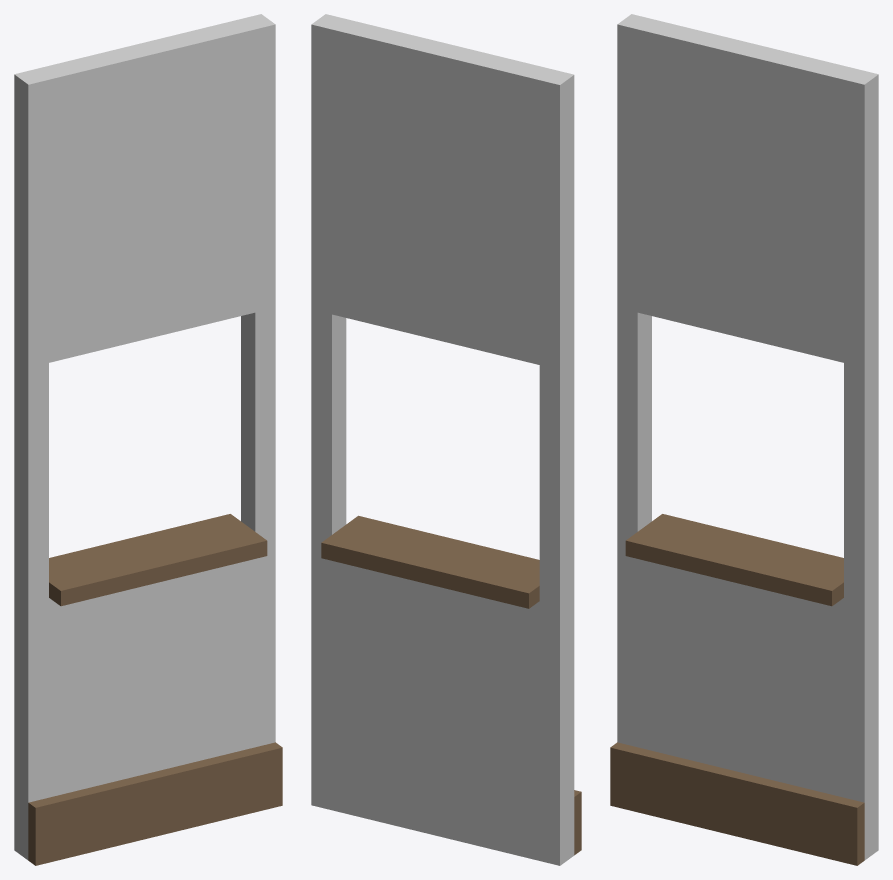
The model's file is Mesh_WallBaseboard_H2.fbx.
The picture shows the model from 3 angles, left to right: view 1: azimuth 30°, elevation 25°; view 2: azimuth 150°, elevation 25°; view 3: azimuth 330°, elevation 25°; orthographic projection.
Parts seen in each view (by area): view 1: Mesh_WallBaseboard_H2; view 2: Mesh_WallBaseboard_H2; view 3: Mesh_WallBaseboard_H2.
Boxes of the visible parts, x1,y1,x2,y2 form: Mesh_WallBaseboard_H2: (14, 14, 282, 865); Mesh_WallBaseboard_H2: (311, 14, 581, 865); Mesh_WallBaseboard_H2: (610, 14, 878, 865).
Size of the model in its own units: 1 by 3 by 0.2574.
